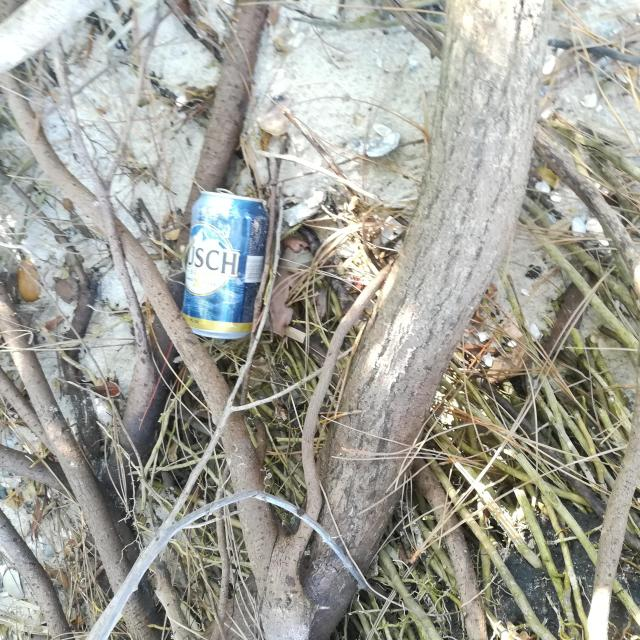litter: (181, 191, 270, 341)
